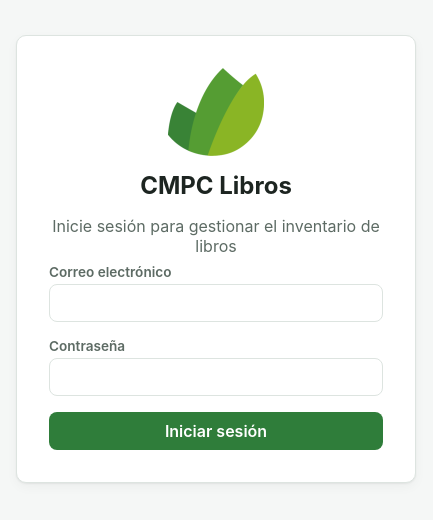
Scenario: LoginPage › shows reactive validation errors
Click the button "Iniciar sesión". click: x=216, y=431
box: x1=49 y1=412 x2=383 y2=450
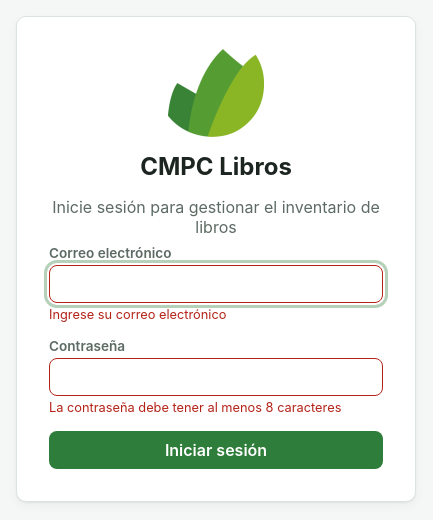
Result: the text "Ingrese su correo electrónico" is shown at x1=49 y1=307 x2=226 y2=322
